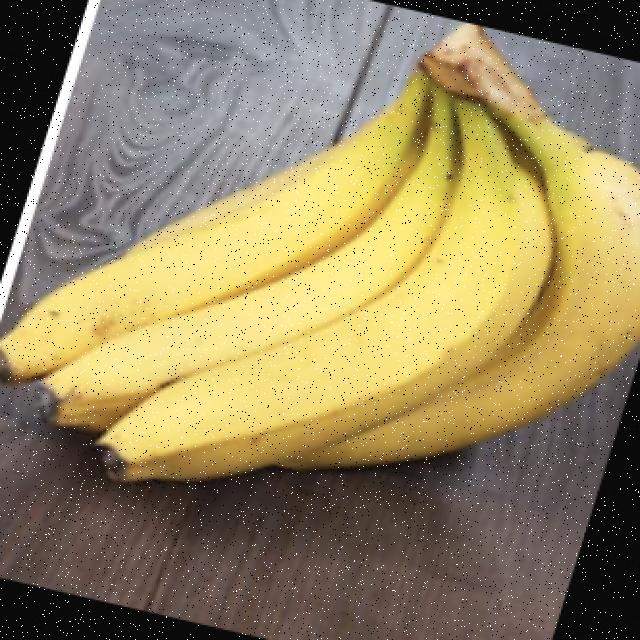god quality banana: (0, 25, 638, 482)
